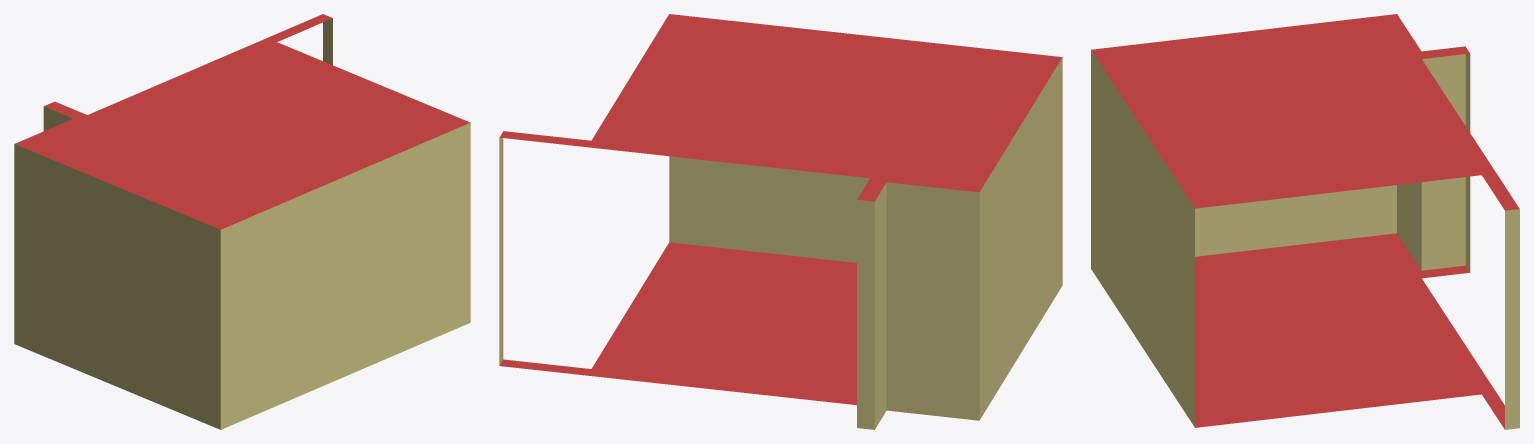
3 views of the same model, side by side, from view 1: azimuth 30°, elevation 25°; view 2: azimuth 150°, elevation 25°; view 3: azimuth 270°, elevation 25° (orthographic). The views are drawn at different scales.
Size of the model in its own units: 13.31 by 12.26 by 6.92.
